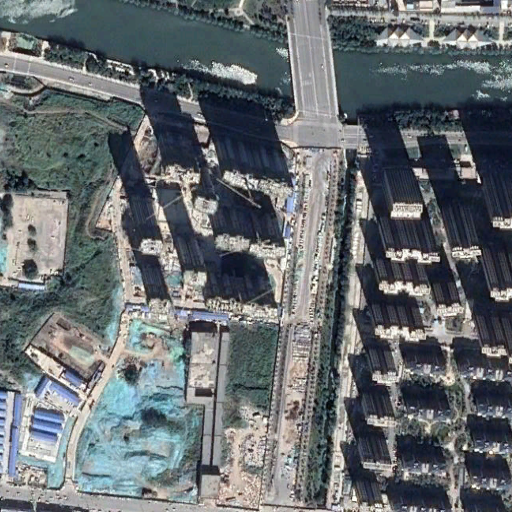cw: (73, 310, 199, 506)
